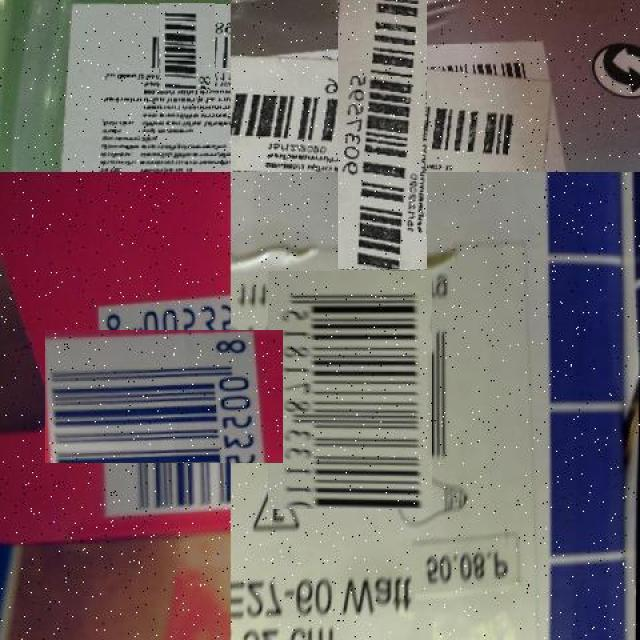Barcode: (249, 290, 451, 491), (284, 20, 481, 216), (71, 303, 257, 489), (150, 11, 222, 82)
